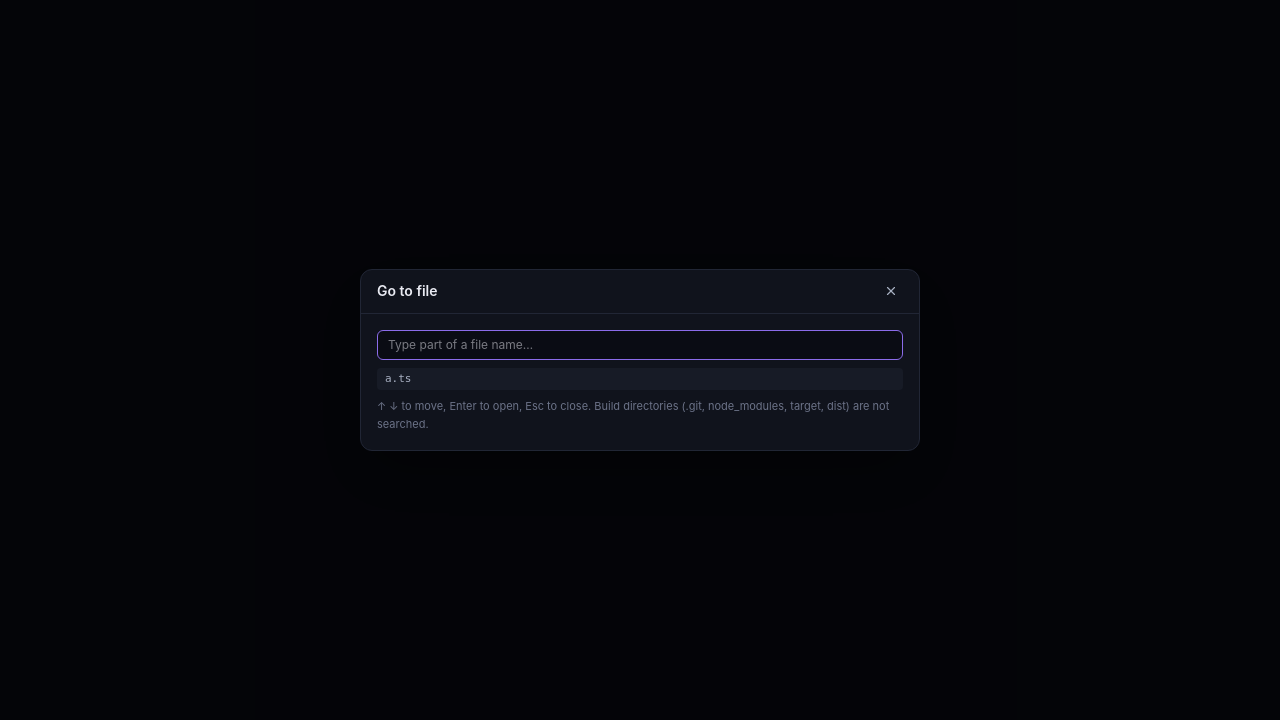
Test: the Go to file dialog › says so when nothing matches
Expected: the button "a.ts" is shown, [377,368,903,390]
Type "zzzz" into the field labelled "file name" at [640, 345], box [377,330,903,360]
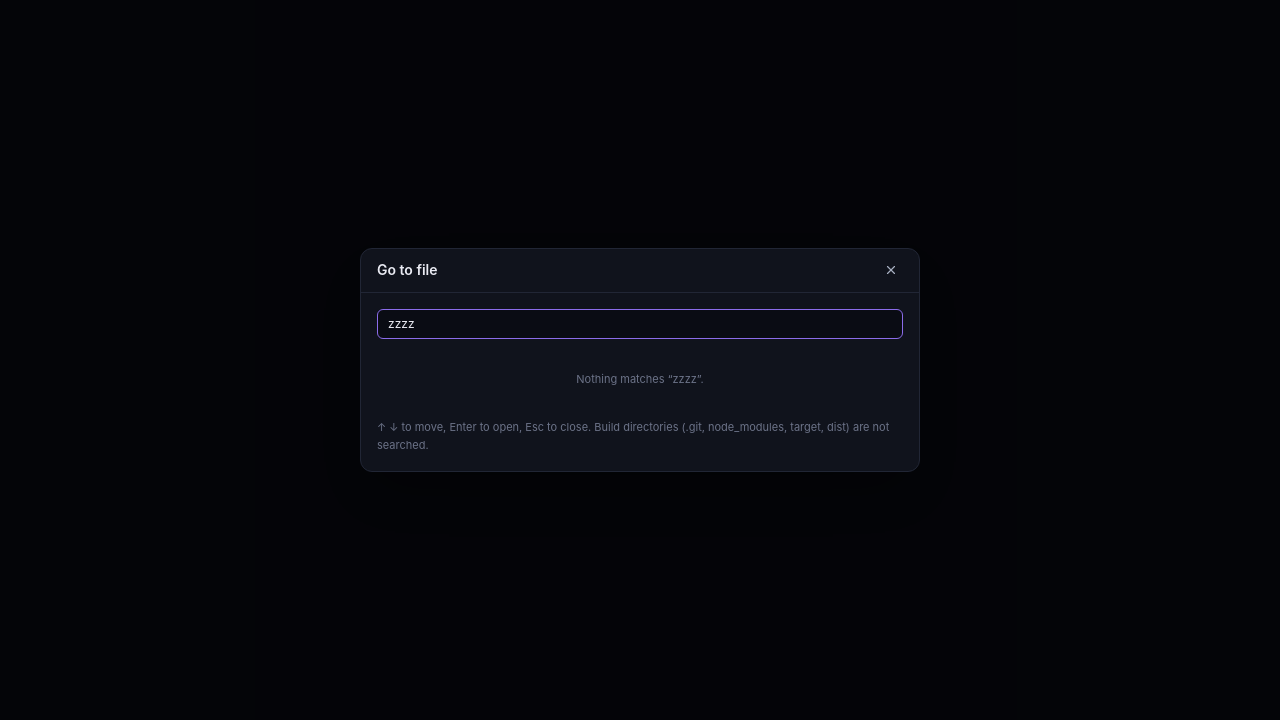
Expected: the text "Nothing matches “zzzz”." is shown, [576,372,704,386]
